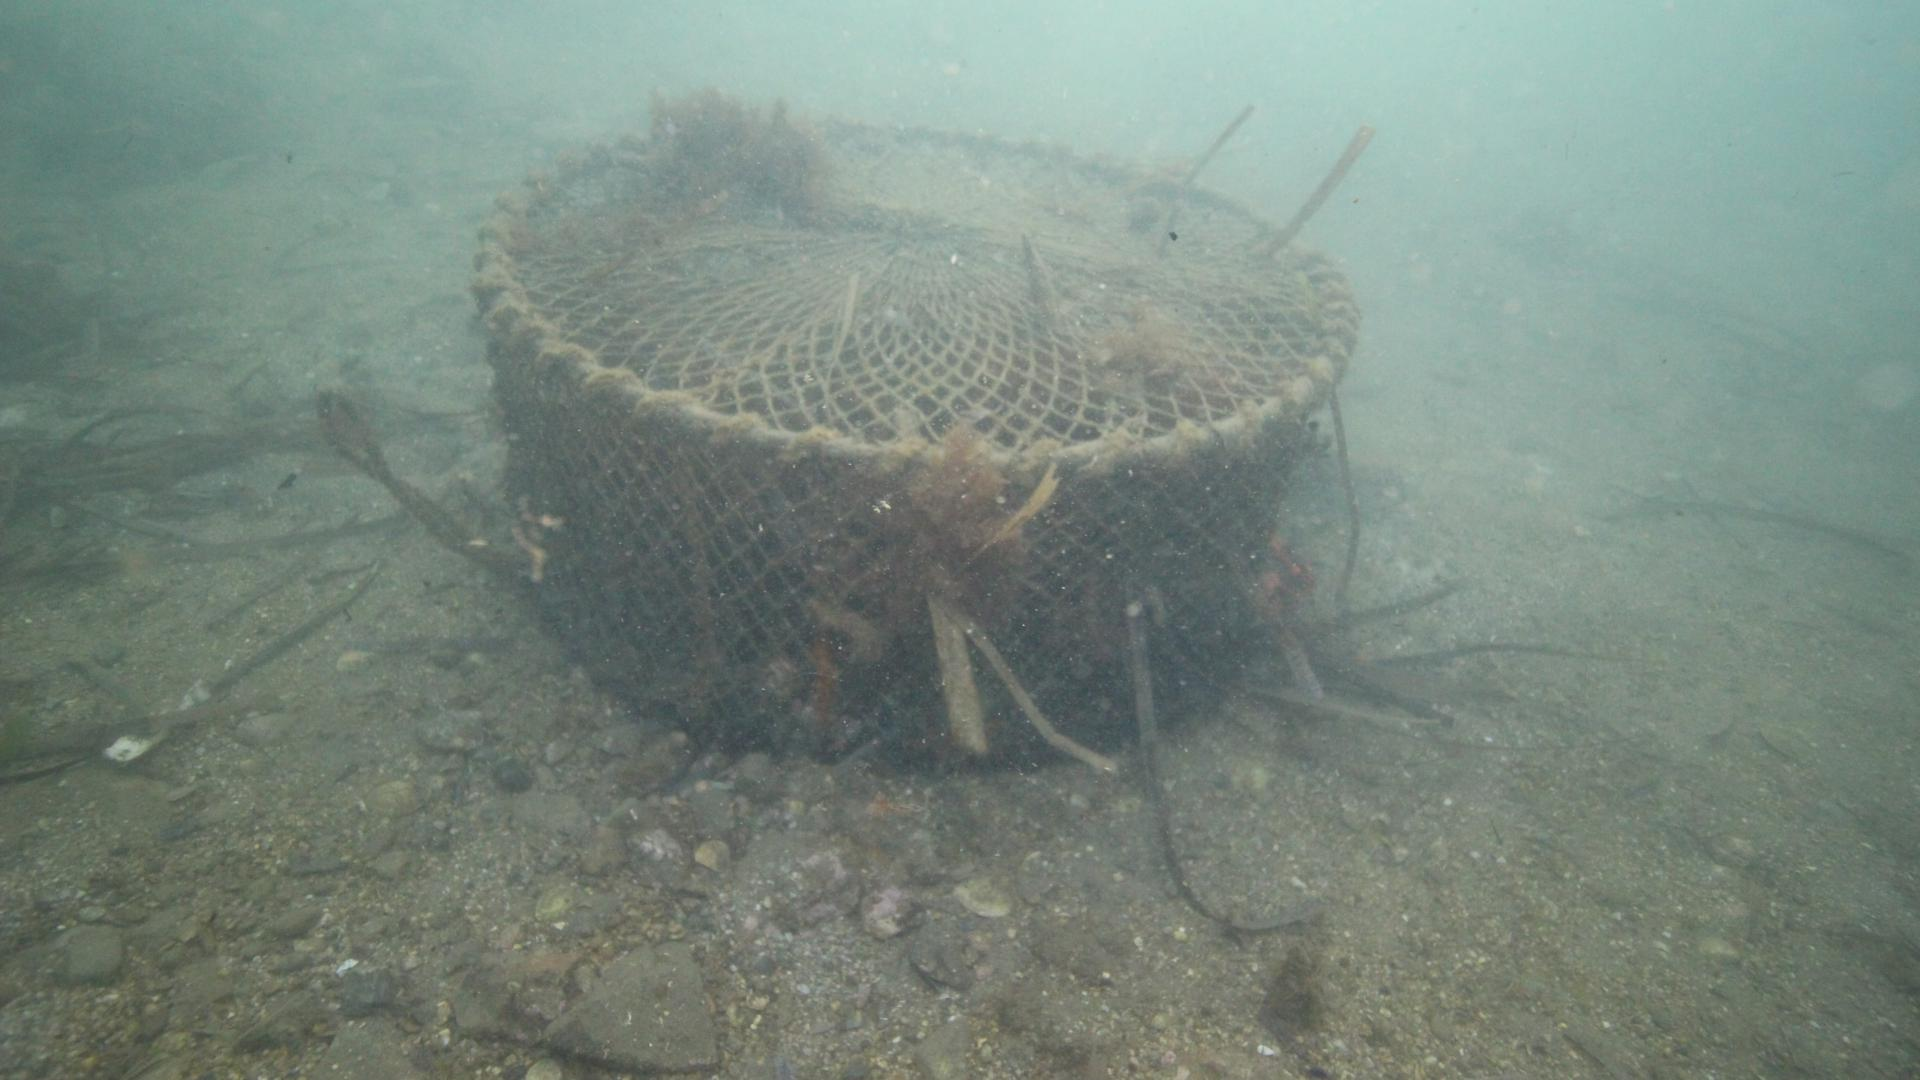circular fish trap: (467, 111, 1361, 764)
rope: (313, 384, 502, 575)
